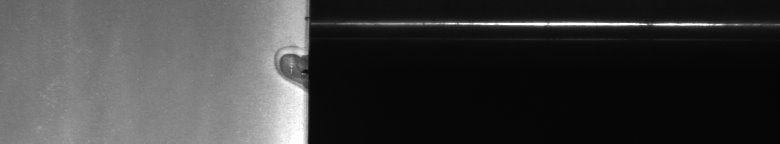hb: (268, 40, 296, 92)
